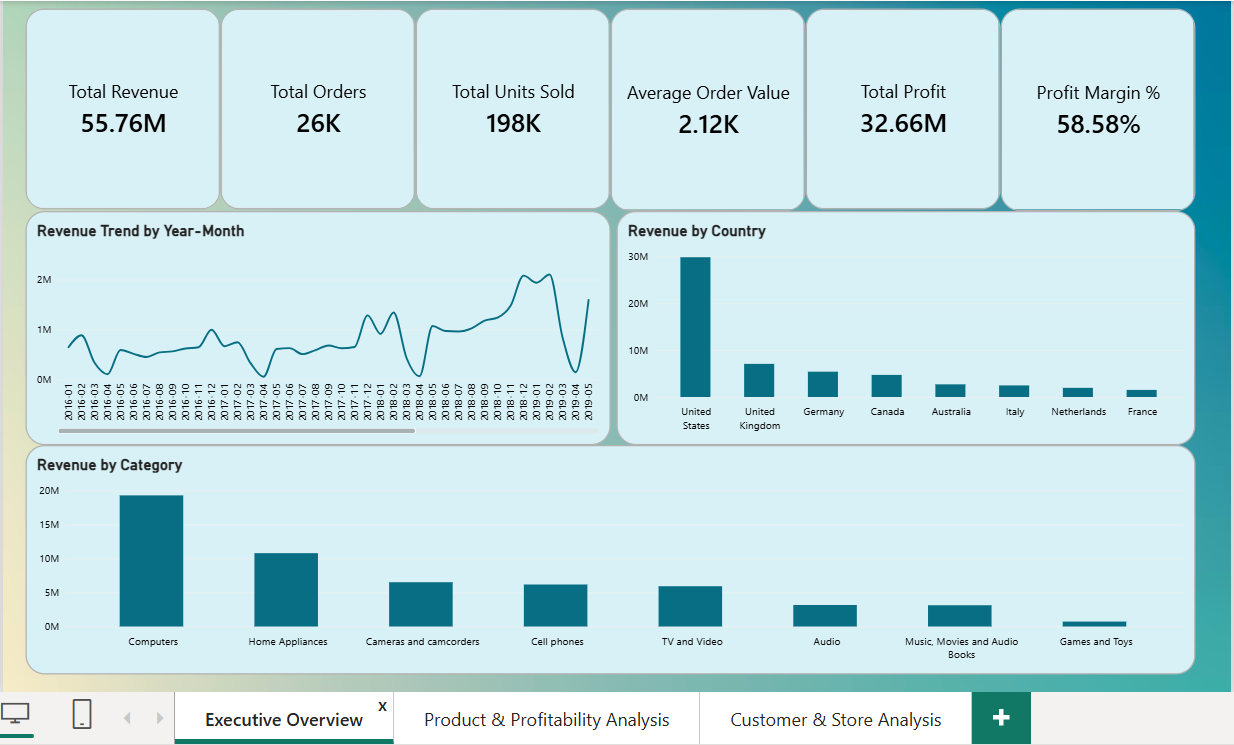

What the dashboard file says about the page in this screenshot:
{"tool":"powerbi","page":{"name":"Executive Overview","canvas":[1920,1080],"ordinal":0},"visuals":[{"type":"cardVisual","fields":{"Data":["Sales_cleaned.Total Revenue"]},"box":[35.2,11.7,304.8,314.2],"z":0},{"type":"cardVisual","fields":{"Data":["Customer_cleaned.Total Orders"]},"box":[339.9,11.7,304.8,314.2],"z":1000},{"type":"cardVisual","fields":{"Data":["Customer_cleaned.Total Unit Sold"]},"box":[644.7,11.7,304.8,314.2],"z":2000},{"type":"cardVisual","fields":{"Data":["Customer_cleaned.Average Order Value"]},"box":[949.5,11.7,304.8,316.5],"z":3000},{"type":"lineChart","title":"Revenue Trend by Year-Month","fields":{"Category":["DateTable.Year-Month"],"Y":["Sales_cleaned.Total Revenue"]},"box":[35.2,328.2,914.3,365.7],"z":4000},{"type":"clusteredColumnChart","title":"Revenue by Category","fields":{"Category":["Products_cleaned.Category"],"Y":["Sales_cleaned.Total Revenue"]},"box":[35.2,694,1828.7,358.7],"z":5000},{"type":"clusteredColumnChart","title":"Revenue by Country","fields":{"Category":["Customer_cleaned.Country"],"Y":["Sales_cleaned.Total Revenue"]},"box":[958.9,328.2,905,365.7],"z":6000},{"type":"cardVisual","fields":{"Data":["Customer_cleaned.Total Profit"]},"box":[1254.3,11.7,304.8,314.2],"z":7000},{"type":"cardVisual","fields":{"Data":["Customer_cleaned.Profit Margin %"]},"box":[1559.1,11.7,304.8,316.5],"z":8000}]}

Visuals, with their boxes on the page's 1920x1080 design canvas (x1, y1, x2, y2). These are canvas units, not pixel positions in the 1234x745 screenshot, which may show the page scaled, cropped or inside an application window:
cardVisual - Sales_cleaned.Total Revenue: BBox(35, 12, 340, 326)
cardVisual - Customer_cleaned.Total Orders: BBox(340, 12, 645, 326)
cardVisual - Customer_cleaned.Total Unit Sold: BBox(645, 12, 950, 326)
cardVisual - Customer_cleaned.Average Order Value: BBox(950, 12, 1254, 328)
"Revenue Trend by Year-Month" lineChart: BBox(35, 328, 950, 694)
"Revenue by Category" clusteredColumnChart: BBox(35, 694, 1864, 1053)
"Revenue by Country" clusteredColumnChart: BBox(959, 328, 1864, 694)
cardVisual - Customer_cleaned.Total Profit: BBox(1254, 12, 1559, 326)
cardVisual - Customer_cleaned.Profit Margin %: BBox(1559, 12, 1864, 328)
